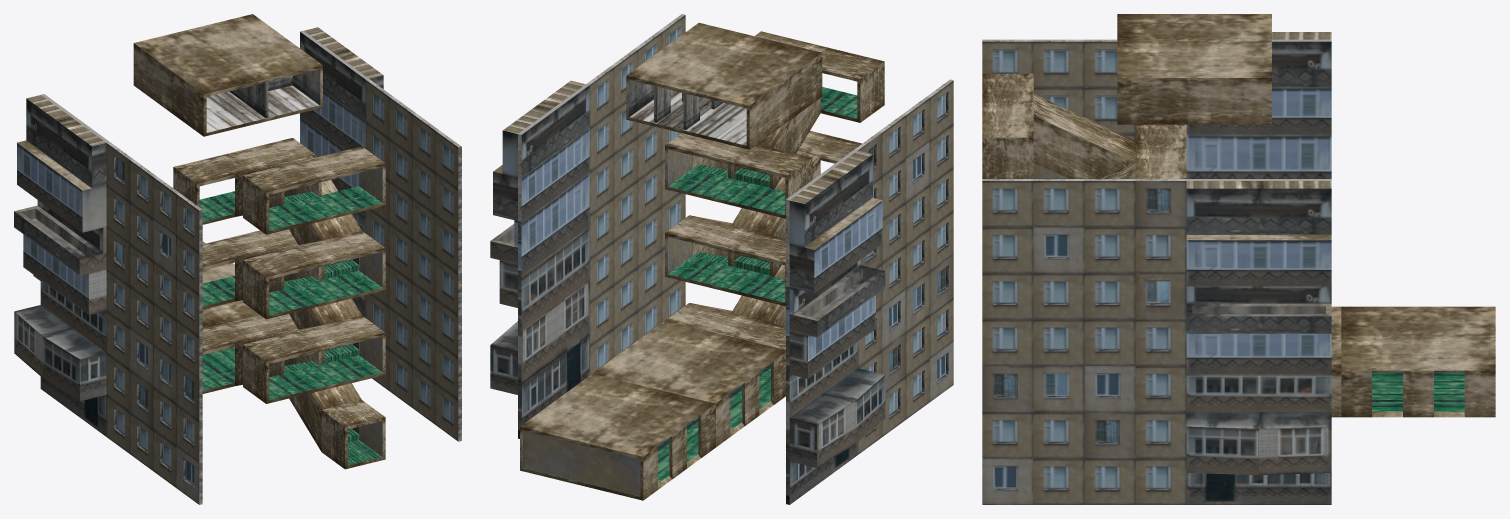
File: hrushg grey.fbx
3 renders of one model, left to right at view 1: azimuth 30°, elevation 25°; view 2: azimuth 150°, elevation 25°; view 3: azimuth 270°, elevation 25°, orthographic. The views are drawn at different scales.
Visible parts, largest first — view 1: Wall big.001, Wall big, room, podezd.003, podezd.001, podezd.002, podezd, podezd.004, podezd.005, Cube.002; view 2: Wall big.001, Wall big, room, podezd.003, podezd.006, podezd.005, podezd.001, podezd.008, podezd.004, podezd.002, Cube, Cube.003; view 3: Wall big, Wall big.001, podezd.006, room, podezd.003, podezd.005.
Part boxes in pixels (box(x1,y1,x2,y2)): Wall big.001: box(14, 94, 202, 504); Wall big: box(300, 27, 461, 441); room: box(133, 14, 322, 136); podezd.003: box(173, 138, 385, 279); podezd.001: box(202, 229, 385, 364); podezd.002: box(235, 315, 385, 451); podezd: box(321, 400, 385, 469); podezd.004: box(202, 314, 297, 393); podezd.005: box(202, 263, 259, 367); Cube.002: box(229, 82, 268, 117); Wall big.001: box(786, 79, 953, 504); Wall big: box(490, 14, 685, 438); room: box(626, 23, 822, 149); podezd.003: box(665, 31, 884, 218); podezd.006: box(520, 373, 715, 500); podezd.005: box(593, 320, 785, 447); podezd.001: box(665, 131, 861, 306); podezd.008: box(523, 431, 640, 496); podezd.004: box(665, 303, 785, 386); podezd.002: box(692, 265, 785, 326); Cube: box(683, 93, 699, 129); Cube.003: box(654, 86, 670, 122); Wall big: box(982, 179, 1331, 504); Wall big.001: box(982, 32, 1331, 178); podezd.006: box(1341, 306, 1495, 417); room: box(1117, 14, 1271, 124); podezd.003: box(982, 73, 1186, 178); podezd.005: box(1331, 306, 1341, 417).
Size of the model in its own units: 6286 by 6841 by 7834.
1 material, 1 textured.
